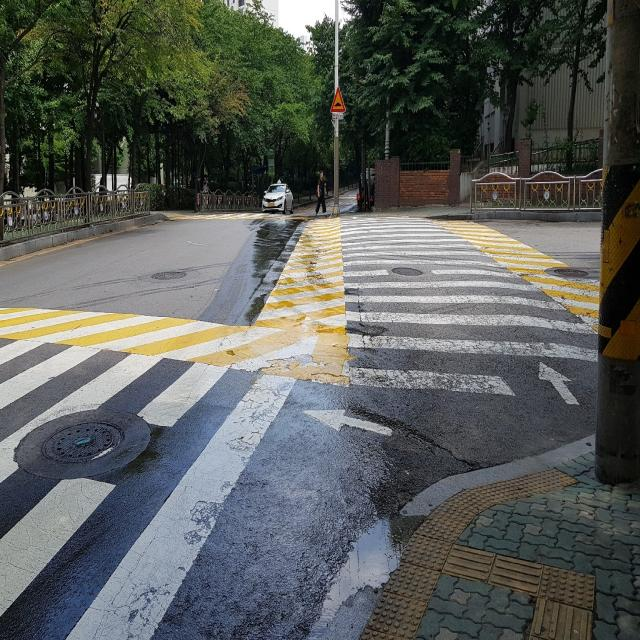횡단보도: (0, 305, 310, 639), (340, 216, 598, 404)
